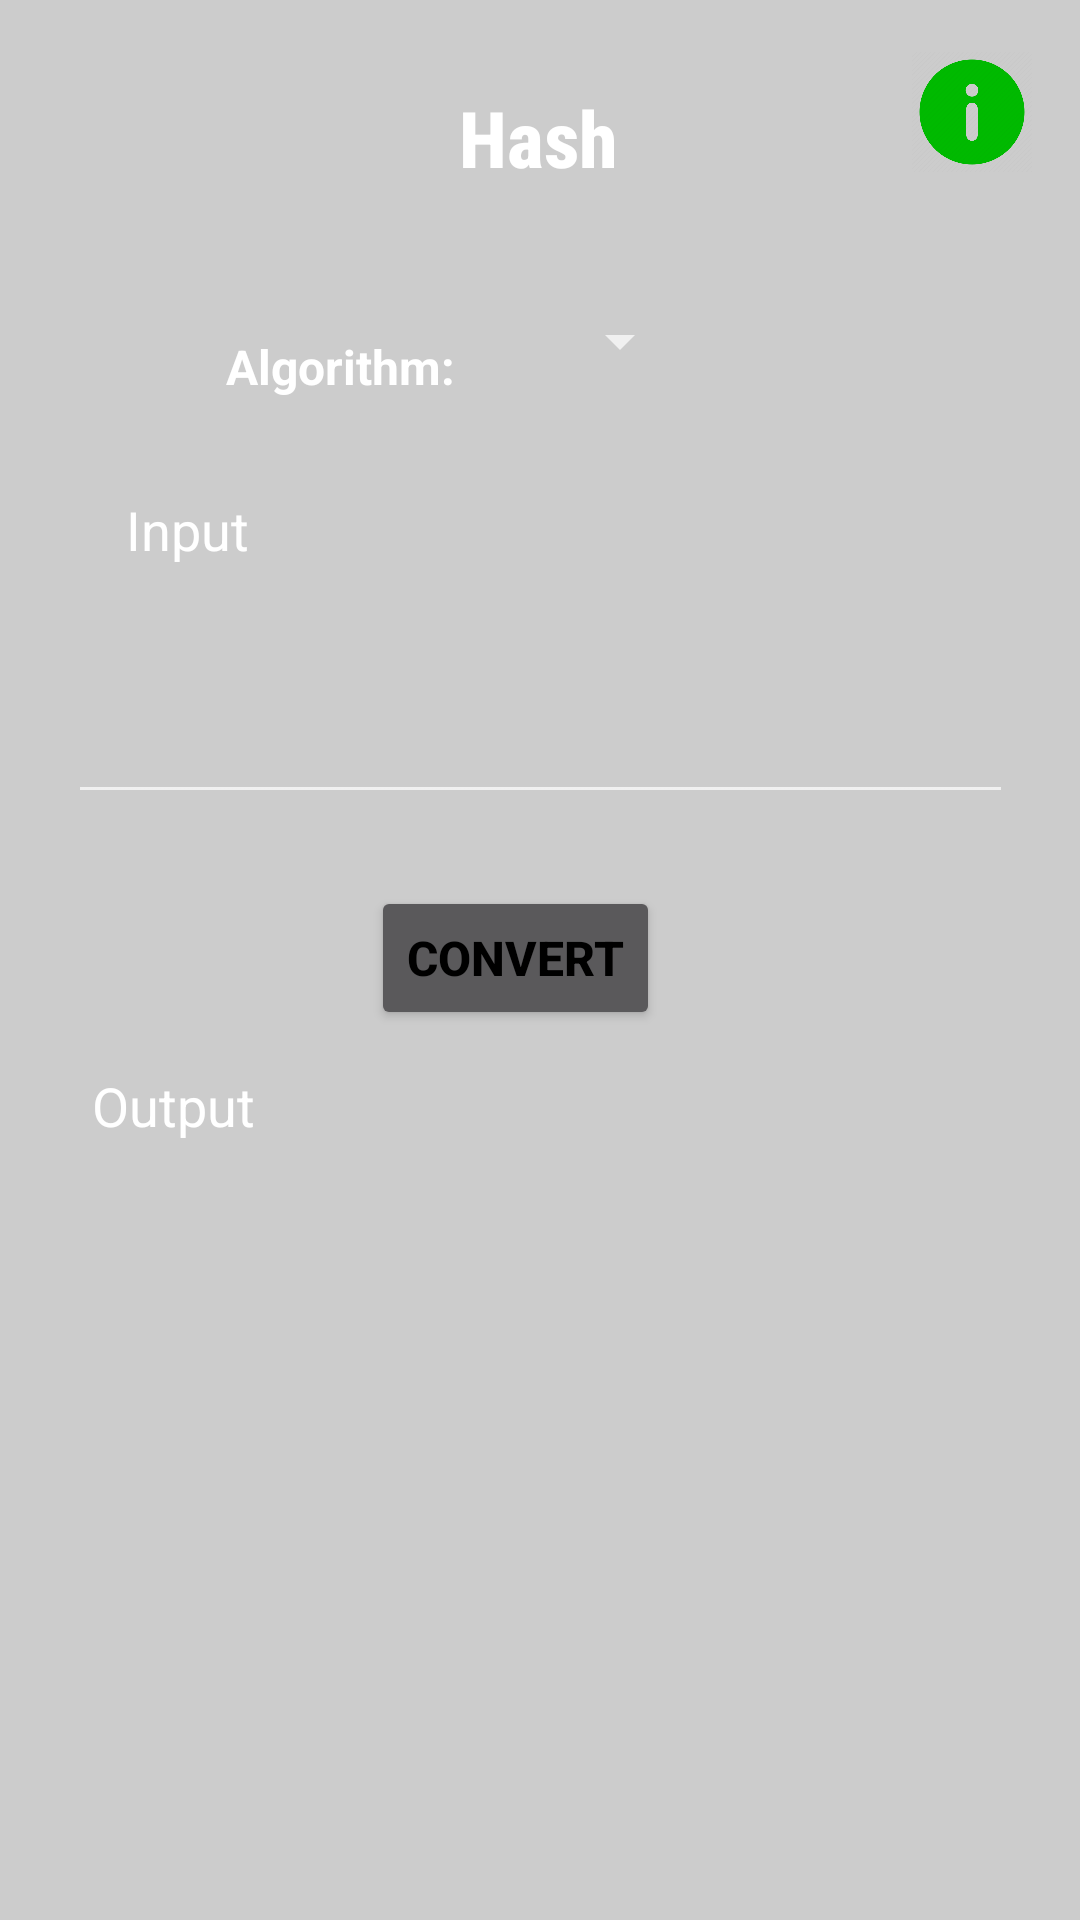

Screen size 1080 x 1920. Icon name, then its center in pixels as (x,y):
info: (972,112)
